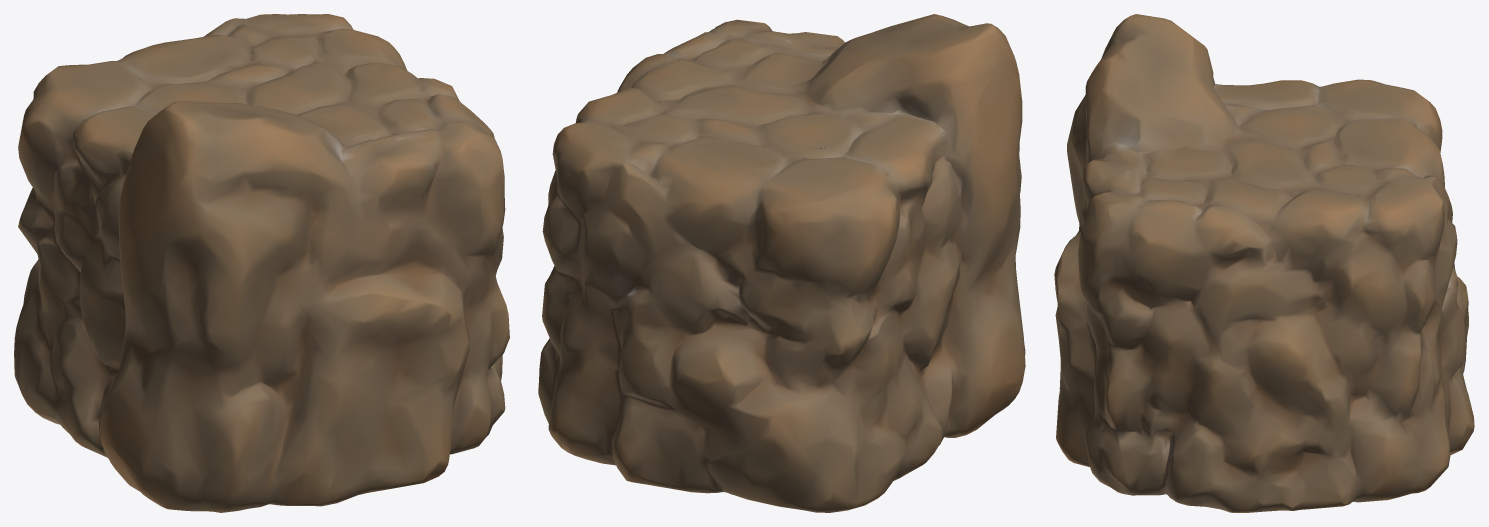
The model's file is SM_floor_rock_03OLD.fbx.
The picture shows the model from 3 angles, left to right: view 1: azimuth 30°, elevation 25°; view 2: azimuth 150°, elevation 25°; view 3: azimuth 270°, elevation 25°; orthographic projection. The views are drawn at different scales.
Visible parts, largest first — view 1: SM_Rock1_Low; view 2: SM_Rock1_Low; view 3: SM_Rock1_Low.
Boxes of the visible parts, x1=… form: SM_Rock1_Low: x1=14, y1=14, x2=509, y2=512; SM_Rock1_Low: x1=538, y1=14, x2=1025, y2=512; SM_Rock1_Low: x1=1054, y1=14, x2=1474, y2=512.
Bounding box in the file's own units: 131 × 123 × 133.
